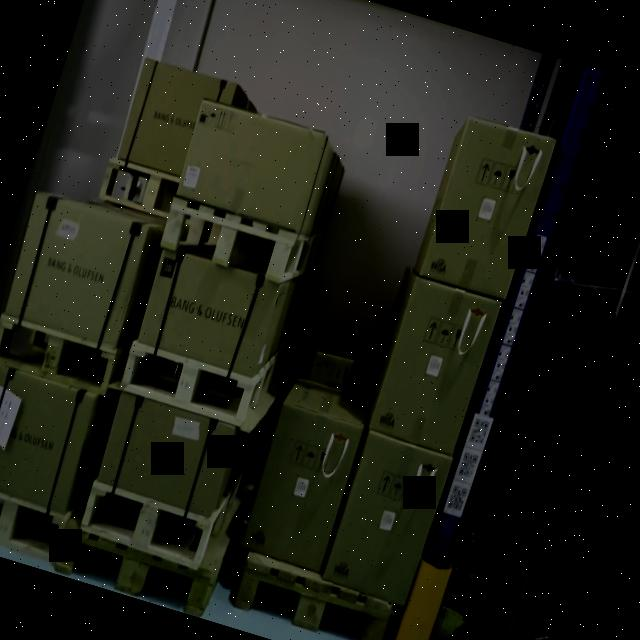box: (0, 190, 156, 351), (424, 120, 554, 297), (370, 276, 499, 454), (172, 98, 330, 234), (328, 433, 450, 601), (240, 412, 362, 572), (136, 252, 282, 376), (94, 396, 238, 516), (0, 371, 97, 512)
